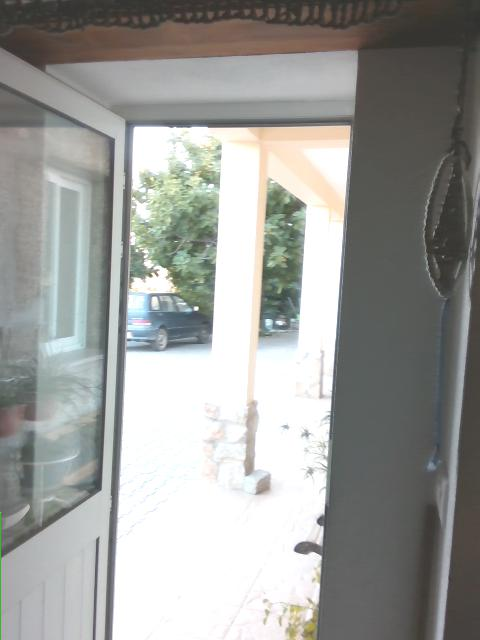open_door: (99, 107, 354, 638)
